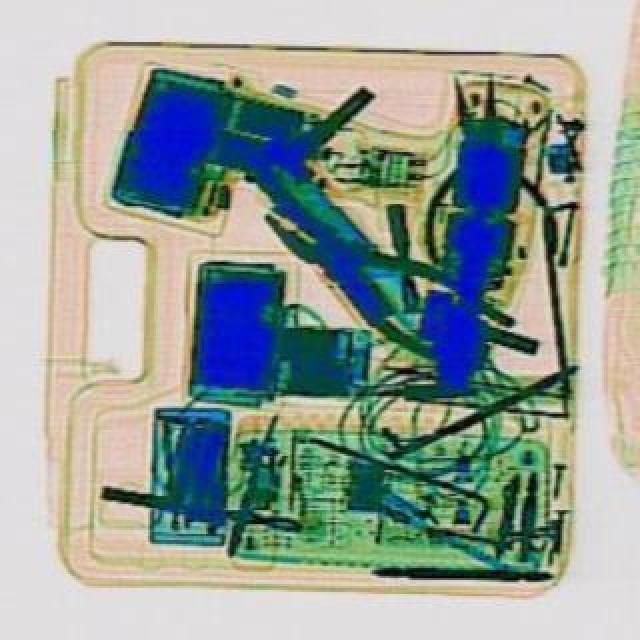wrench: (238, 180, 516, 392), (400, 68, 556, 272)
